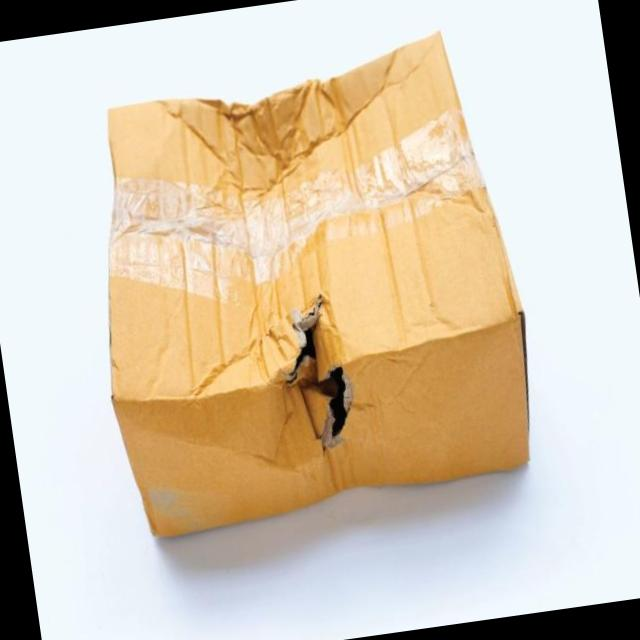box: (104, 29, 531, 540)
crushed: (106, 29, 478, 202), (196, 457, 531, 518)
tear: (283, 293, 354, 448)
